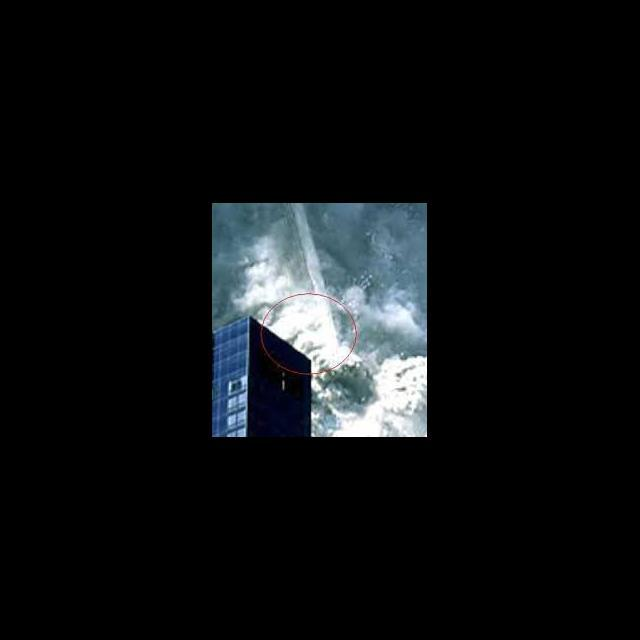Smoke: (381, 360, 426, 428), (296, 306, 345, 352)
